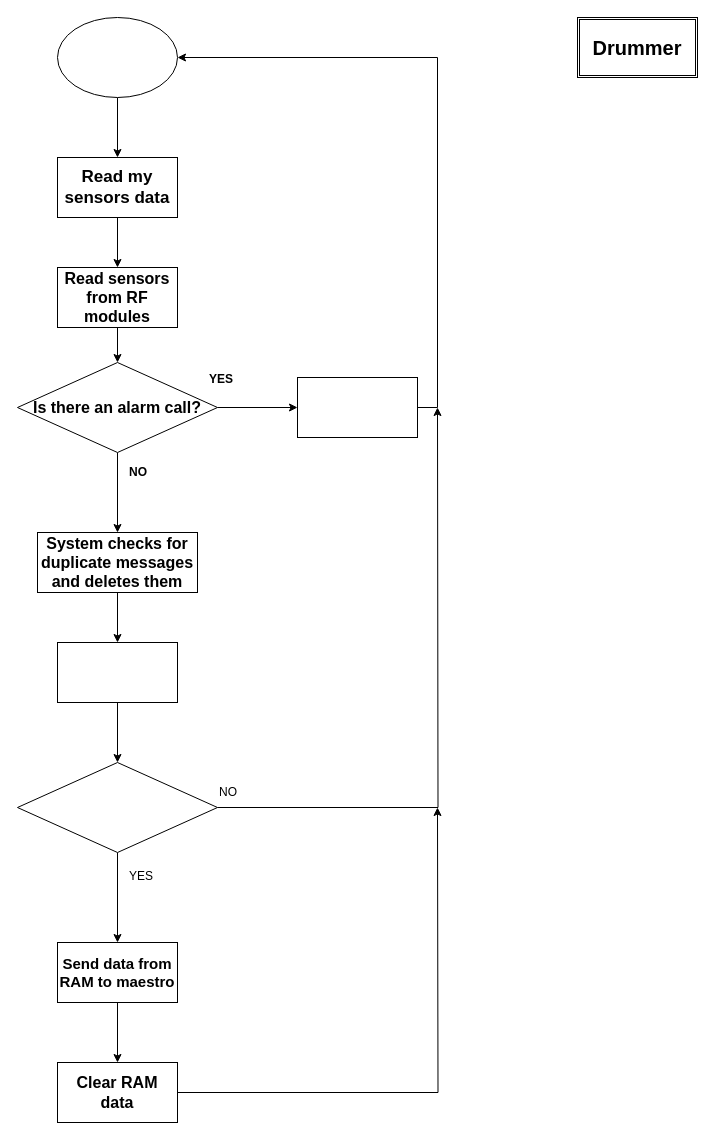
Some shapes in this 715 by 1140 pixel diagram are drawn without their labels. Here are the shapes that lost their labels. From the top down, the box of each, then its label:
(56, 16, 178, 98): START
(296, 376, 418, 438): Send data via GSM to Maestro
(56, 642, 178, 702): Save data onto RAM
(16, 762, 218, 852): Has it been 6 hours?
